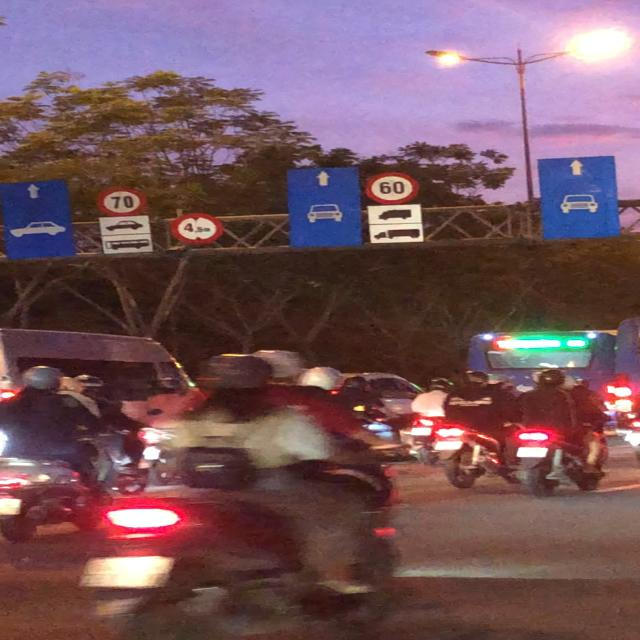Bien bao han che chieu cao: (167, 208, 225, 249)
Bien bao toc do toi da cho phep: (358, 169, 427, 207), (89, 183, 159, 220)
